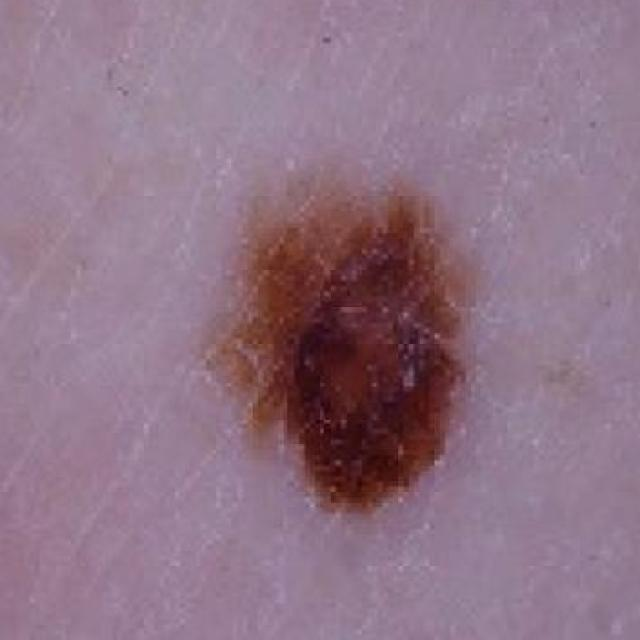MEL: (222, 122, 466, 570)
